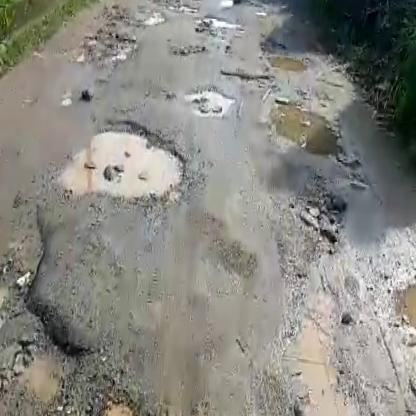pothole: (58, 115, 200, 213), (53, 382, 222, 416), (265, 101, 350, 164), (279, 184, 346, 259), (379, 267, 416, 375), (70, 28, 140, 74), (183, 83, 233, 120), (217, 66, 283, 89)
